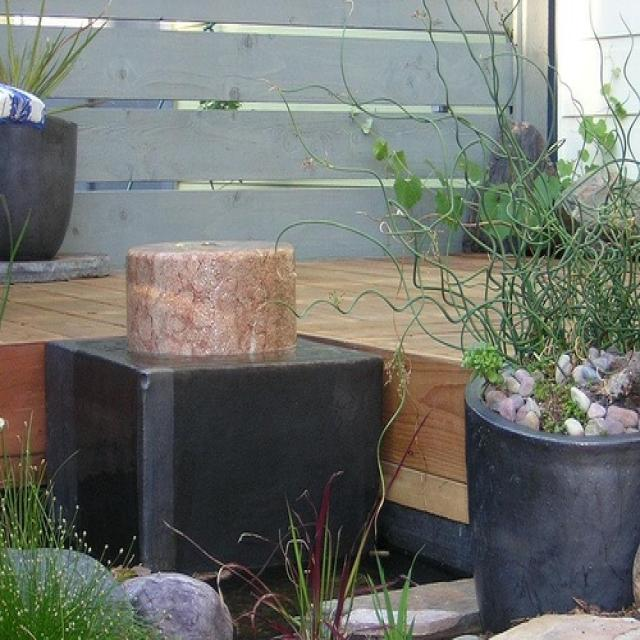pottedplant: (224, 1, 639, 636), (0, 0, 108, 265)
